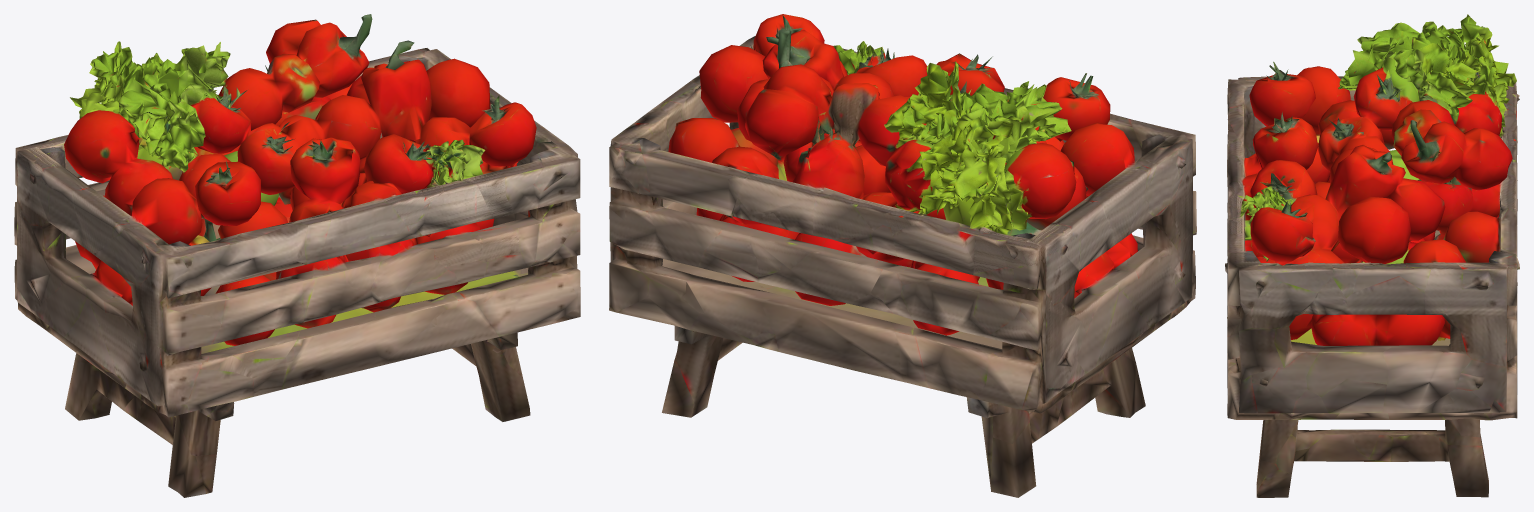
File: produce-crate.glb
The picture shows the model from 3 angles, left to right: view 1: azimuth 30°, elevation 25°; view 2: azimuth 150°, elevation 25°; view 3: azimuth 270°, elevation 25°; orthographic projection. The views are drawn at different scales.
Size of the model in its own units: 1.93 by 1.59 by 1.22.
Materials: 1 (1 with a texture image).
